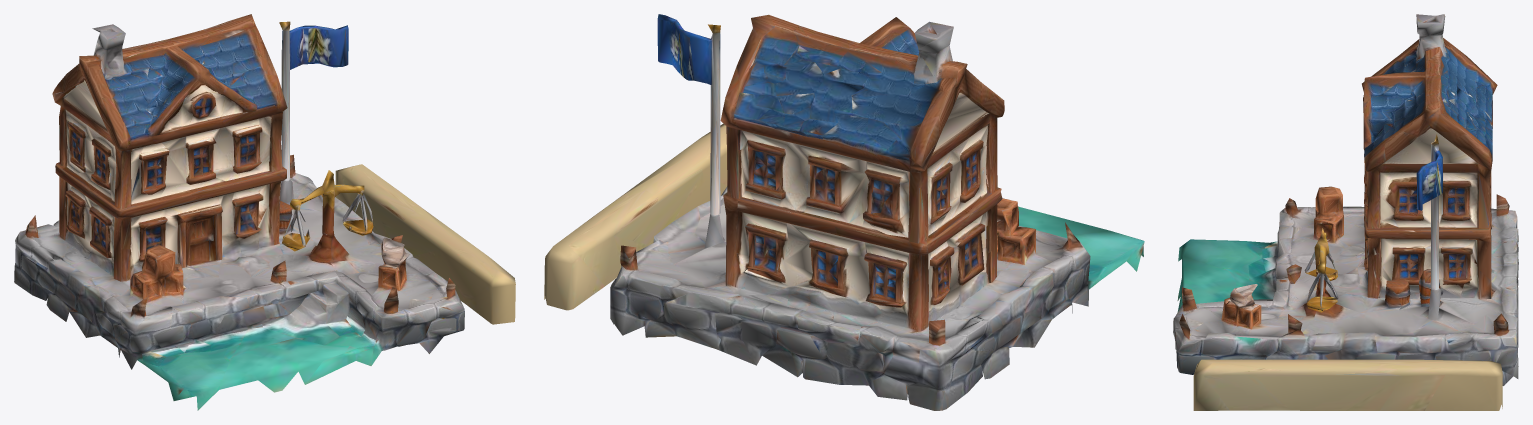
File: m_customs_animated.glb
3 views of the same model, side by side, from view 1: azimuth 30°, elevation 25°; view 2: azimuth 150°, elevation 25°; view 3: azimuth 270°, elevation 25° (orthographic). The views are drawn at different scales.
Parts seen in each view (by area): view 1: m_customs_Living_Scenery; view 2: m_customs_Living_Scenery; view 3: m_customs_Living_Scenery.
Part boxes in pixels (<box>): m_customs_Living_Scenery: <box>14,14,515,410</box>; m_customs_Living_Scenery: <box>544,14,1144,410</box>; m_customs_Living_Scenery: <box>1173,14,1518,410</box>.
Size of the model in its own units: 0.9789 by 0.748 by 0.8899.
1 material, 1 textured.
